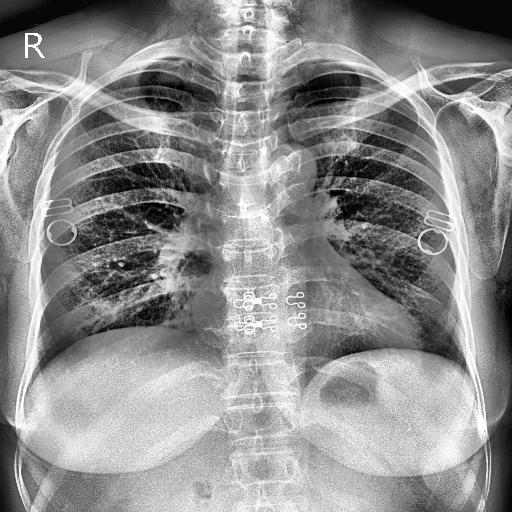0- Aortic enlargement: (262, 140, 318, 204), (264, 143, 318, 202)
3- Cardiomegaly: (190, 288, 420, 372), (190, 286, 424, 358), (192, 284, 418, 348)
